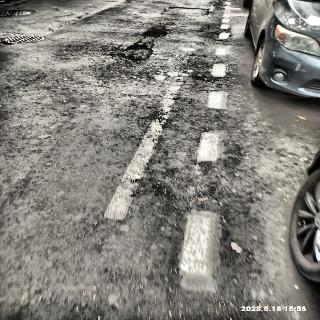alligator-crack: (96, 53, 163, 87)
crack: (168, 6, 211, 12), (160, 10, 167, 16)
pothole: (143, 27, 170, 38), (125, 42, 152, 52)
